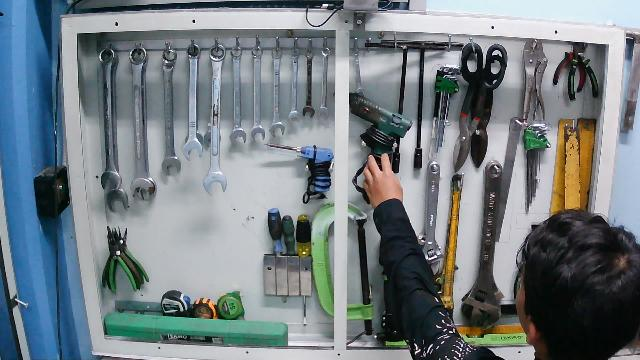gun_lem: (348, 91, 415, 204)
